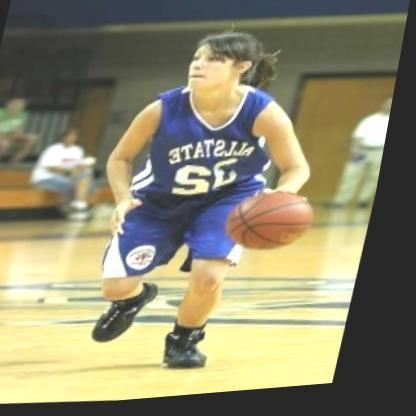basketball: (225, 187, 331, 264)
